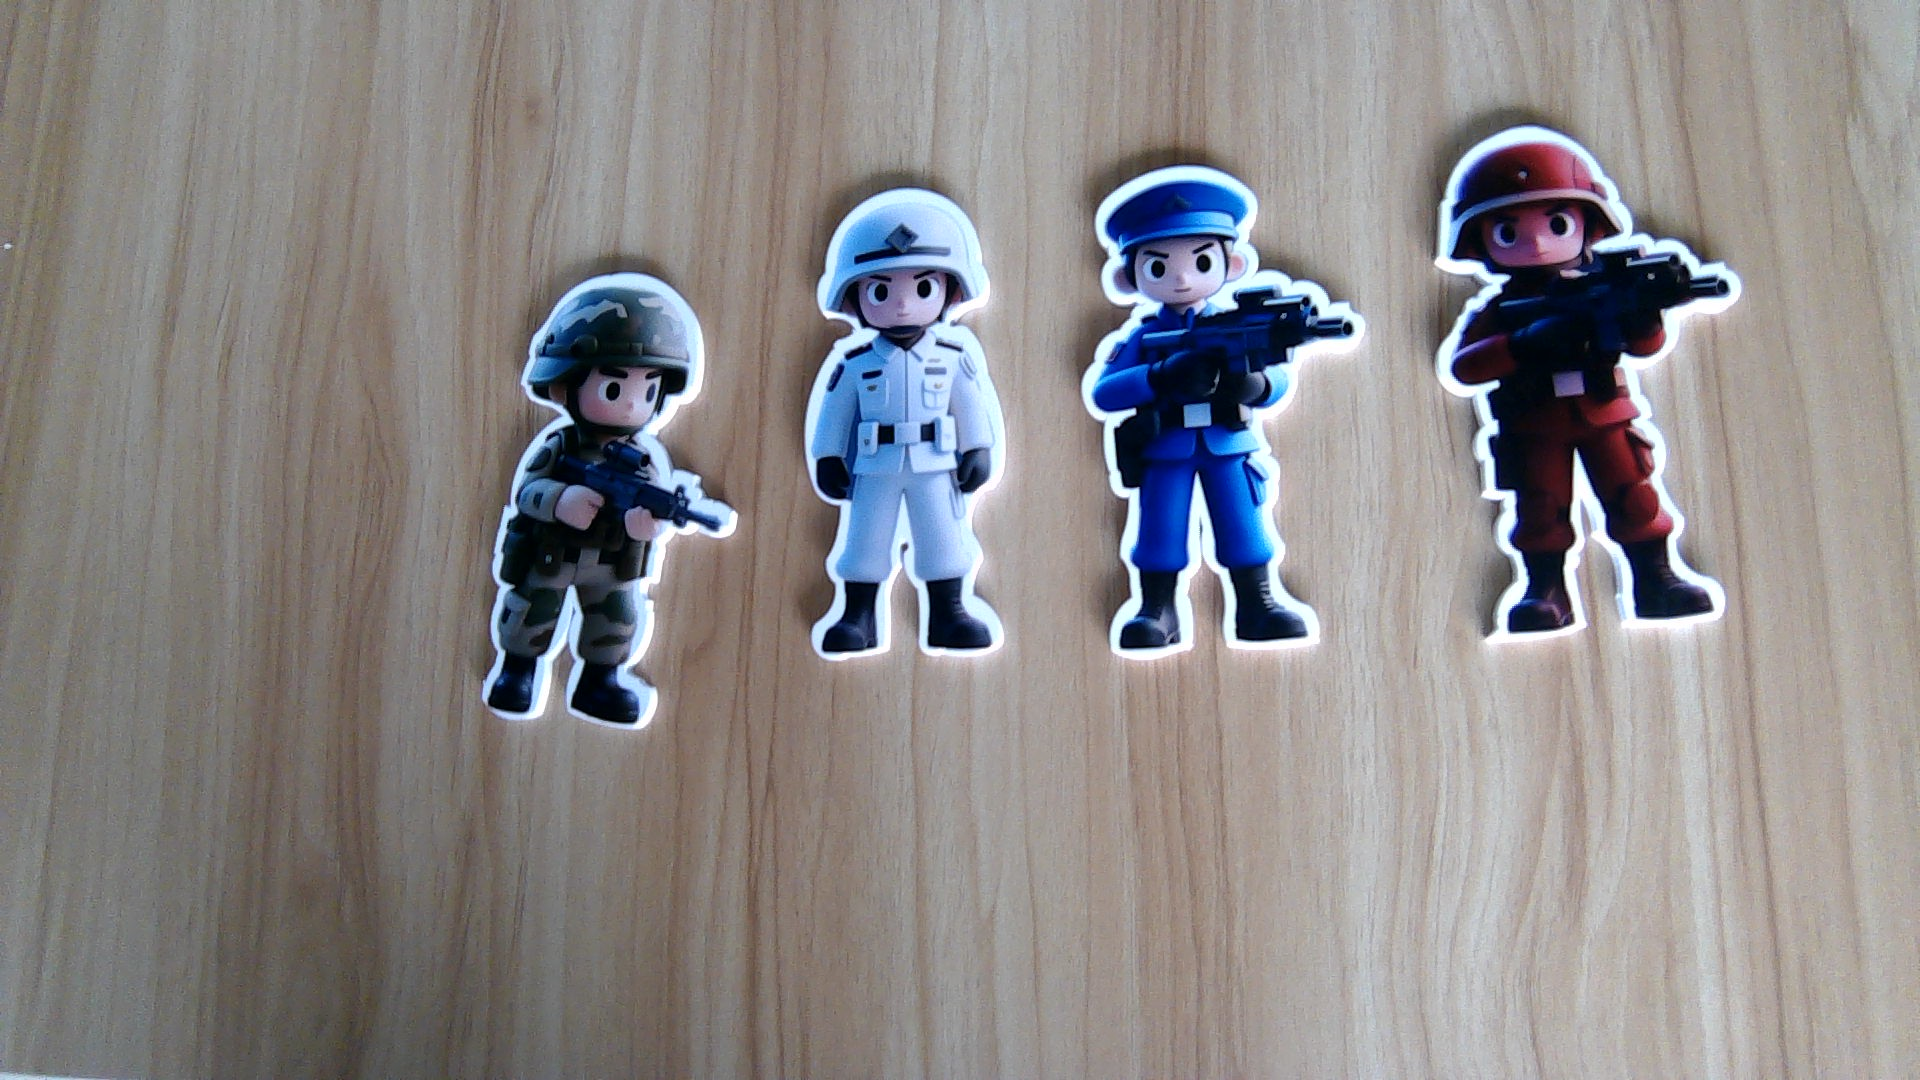人质: (803, 330, 1010, 657)
友军: (476, 429, 735, 729)
敌人1: (1424, 280, 1751, 645)
敌人2: (1076, 306, 1335, 659)
